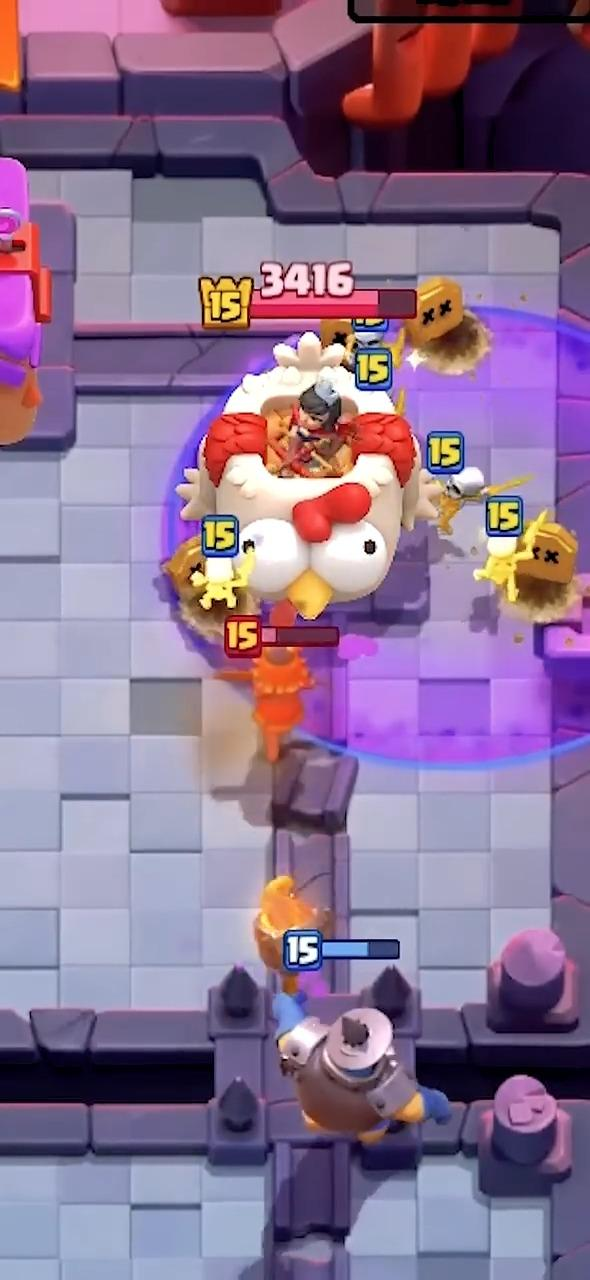furnace: (254, 876, 449, 1145)
graveyard: (348, 287, 589, 768)
skeleton: (473, 516, 540, 603), (437, 467, 500, 534), (191, 552, 253, 610), (355, 322, 386, 351)
valkyrie: (218, 646, 314, 763)
